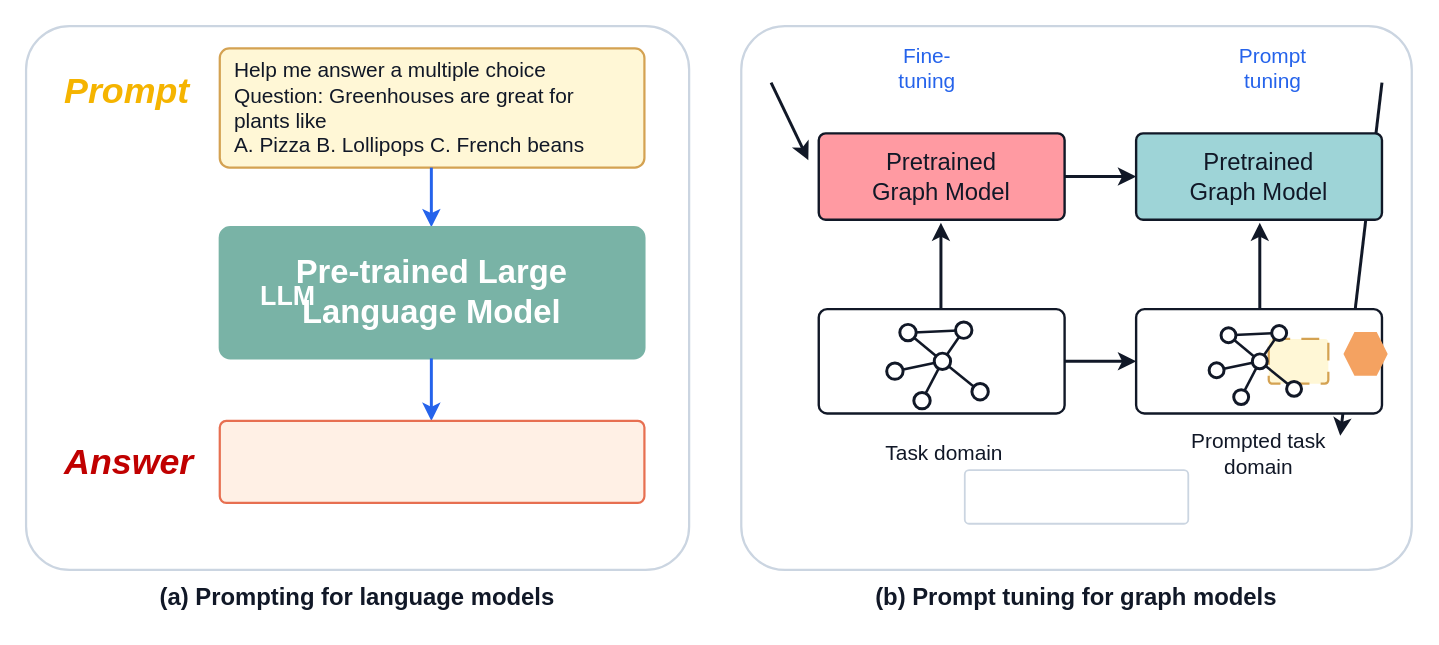
This 1439x645 diagram has some shape labels left out. The shapes that lost their labels are listed below. From the top down, each one's centre as x and y in pixels, then its label:
At point (431, 461): "The correct answer is C. French beans.".
At point (1075, 496): "Legend: red = tuned, teal = frozen, hexagon = prompt".
